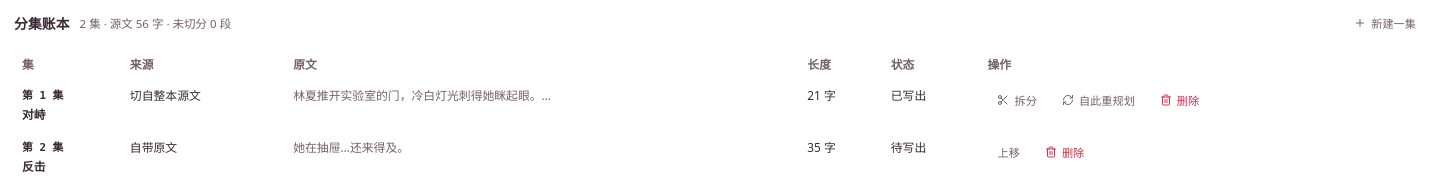
Test: EpisodeLedgerTools › asks before deleting an episode that has not been written, and leaves it when declined
What coordinates should you click on to do the following:
click the button with aria-label "删除第 2 集"
I would click on:
 (1065, 152)
Its box is x1=1035 y1=138 x2=1094 y2=166.
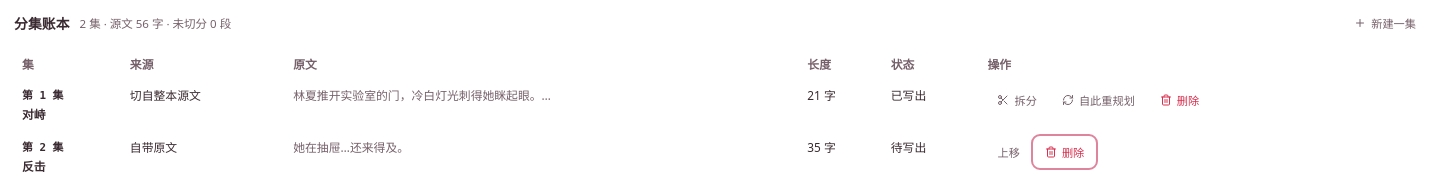
What coordinates should you click on to do the following:
click the button with aria-label "删除第 2 集"
I would click on:
 (1065, 152)
Its box is x1=1035 y1=138 x2=1094 y2=166.
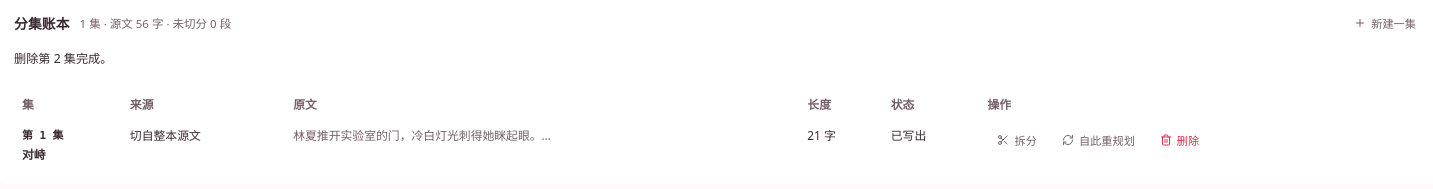
Expected: the text "删除第 2 集完成。" is shown, x1=14 y1=50 x2=112 y2=67
